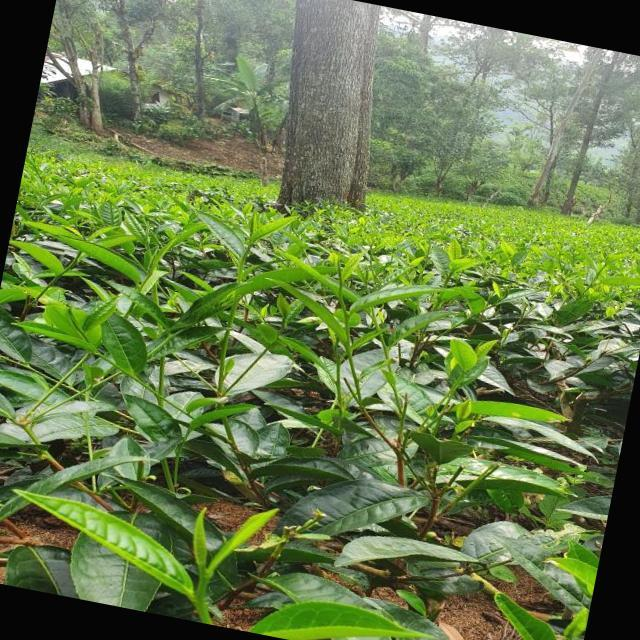Stem: (194, 594, 203, 605), (345, 314, 349, 321), (240, 259, 244, 263), (447, 276, 450, 279)
